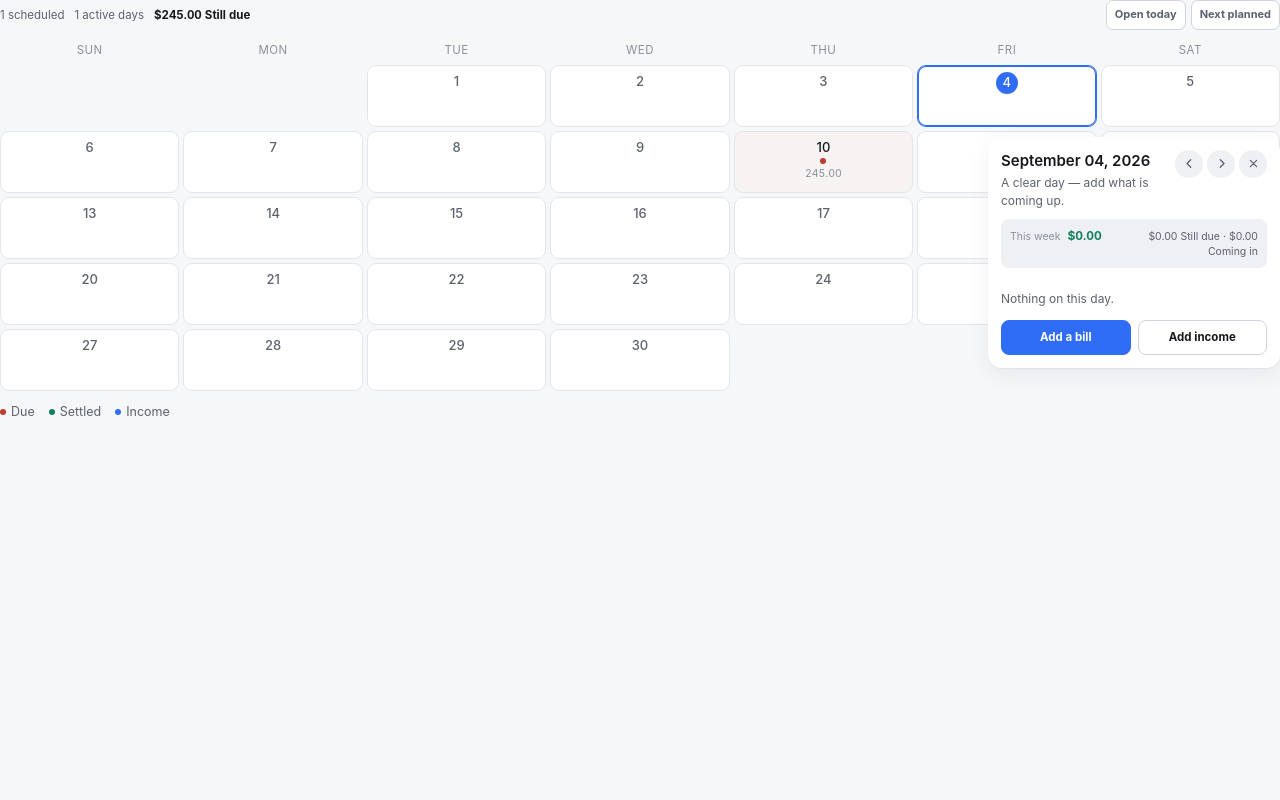
Scenario: CalendarView day card › jumps to the next scheduled day from the calendar toolbar
What coordinates should you click on to do the following:
click the button "Next planned"
I would click on:
 (1235, 15)
Its box is [1191, 0, 1279, 30].
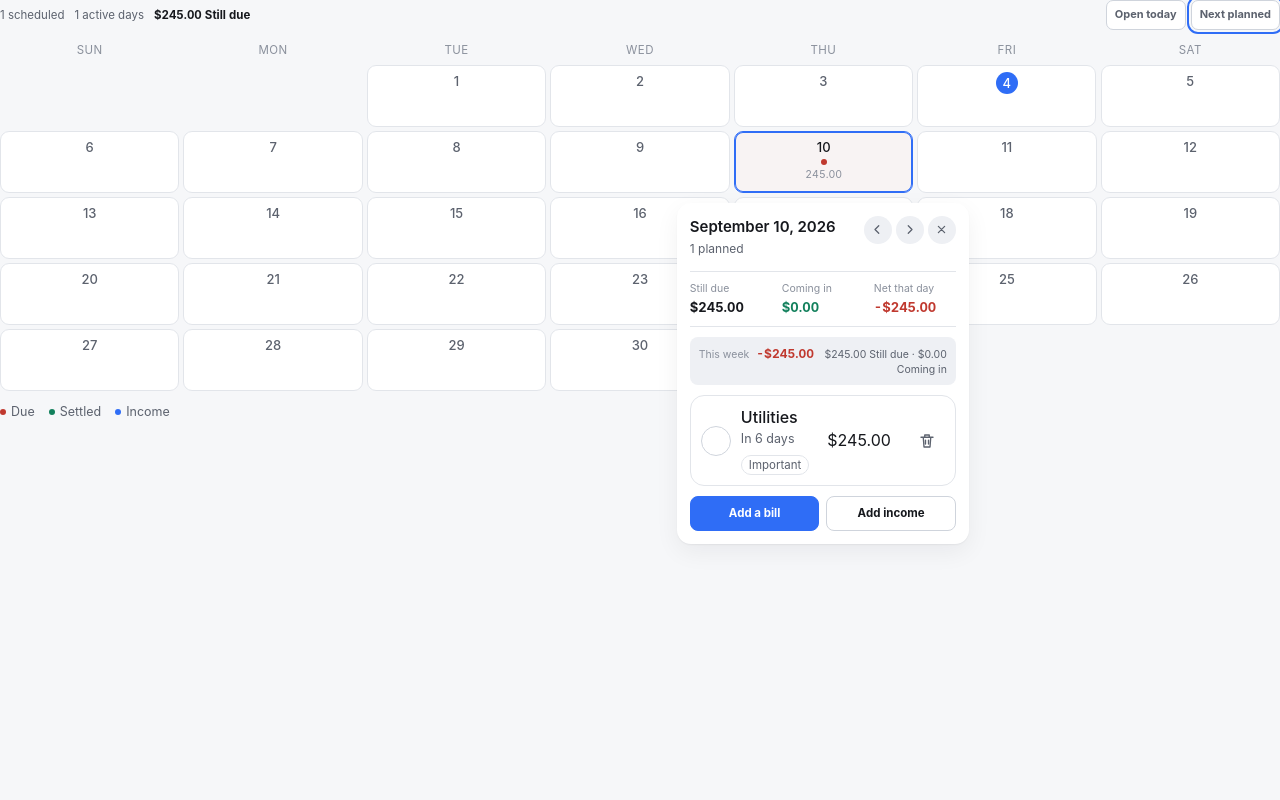
Result: the dialog "September 10, 2026" is shown at [677, 203, 969, 544]
